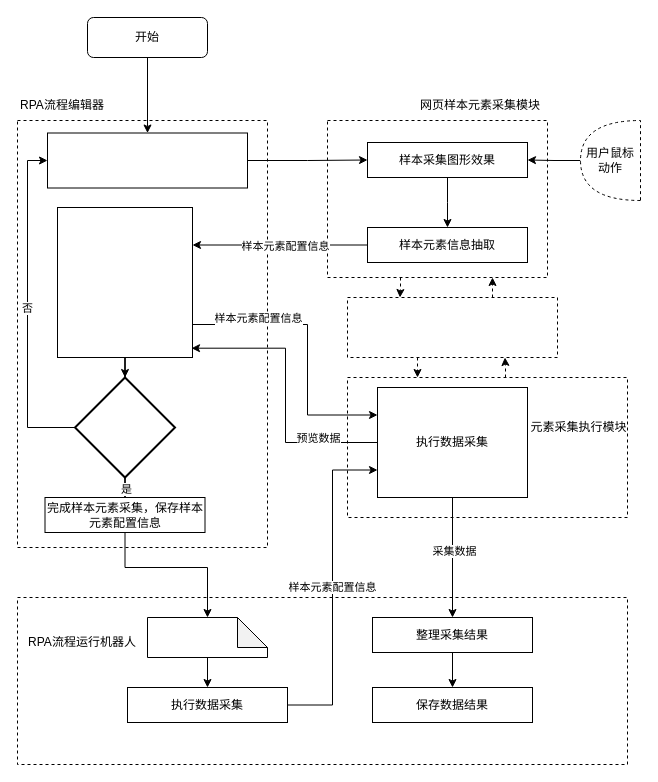
The diagram is 658 pixels wide and 782 high, and some of its shapes have lost their labels. Each missing label, with the box of its shape:
RPA流程包: (146, 616, 268, 658)
浏览器插件: (346, 296, 558, 358)
用户是否确认: (74, 376, 176, 478)
用户点击RPA软件内数据采集按钮，并打开浏览器，进入所需采集网页: (46, 132, 248, 188)
预览数据窗口模块: (56, 206, 192, 358)
